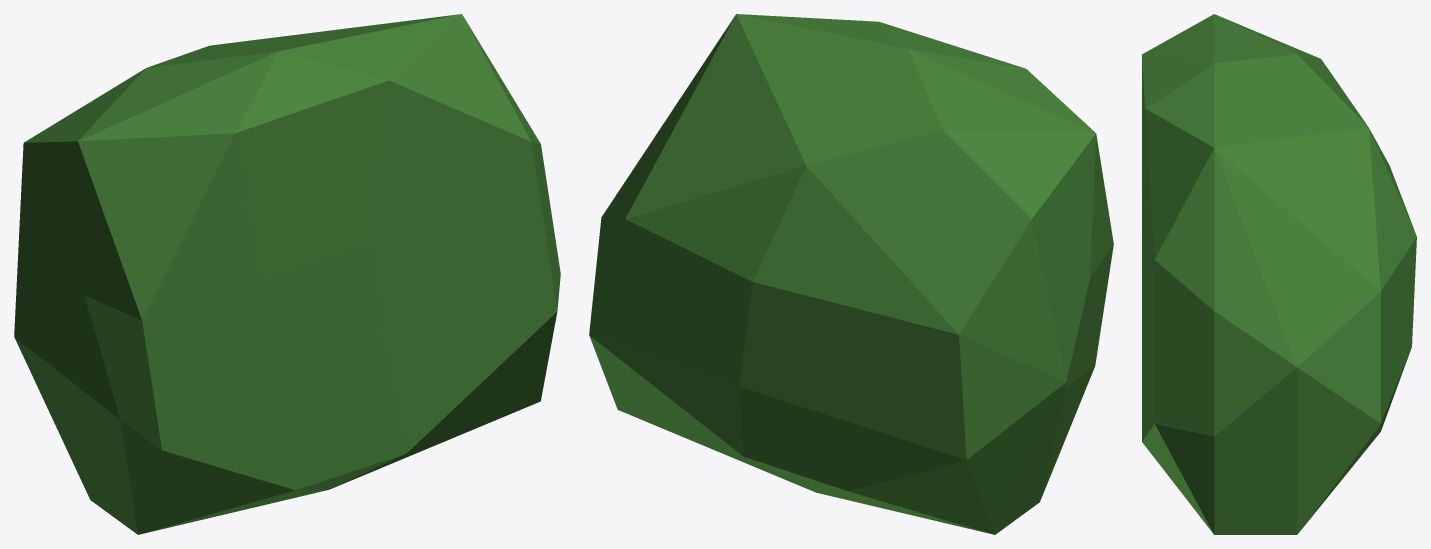
File: SM_Bush2Rotated.FBX
3 views of the same model, side by side, from view 1: azimuth 30°, elevation 25°; view 2: azimuth 150°, elevation 25°; view 3: azimuth 270°, elevation 25° (orthographic). The views are drawn at different scales.
Parts seen in each view (by area): view 1: SM_Bush2; view 2: SM_Bush2; view 3: SM_Bush2.
Part boxes in pixels (x1,y1,x2,y2): SM_Bush2: [14, 14, 560, 534]; SM_Bush2: [589, 14, 1113, 534]; SM_Bush2: [1142, 14, 1416, 534].
Size of the model in its own units: 35.01 by 19.21 by 30.24.
